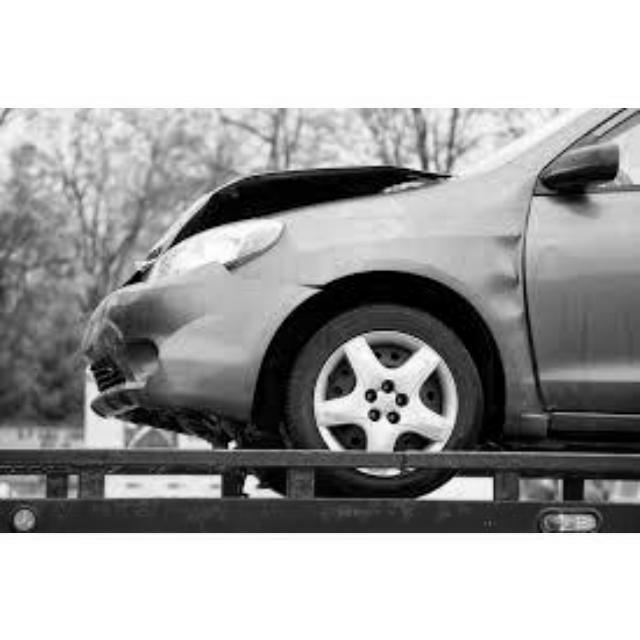fender-dent: (261, 194, 528, 328)
front-bumper-dent: (94, 287, 247, 410)
